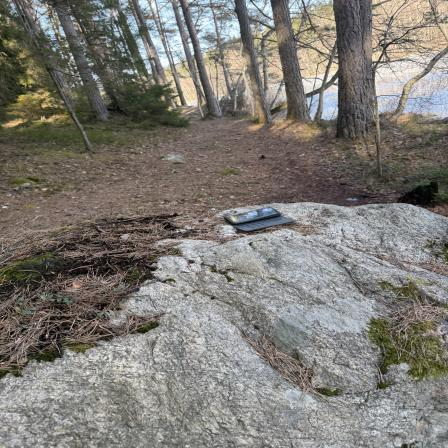phone: (226, 208, 297, 232)
